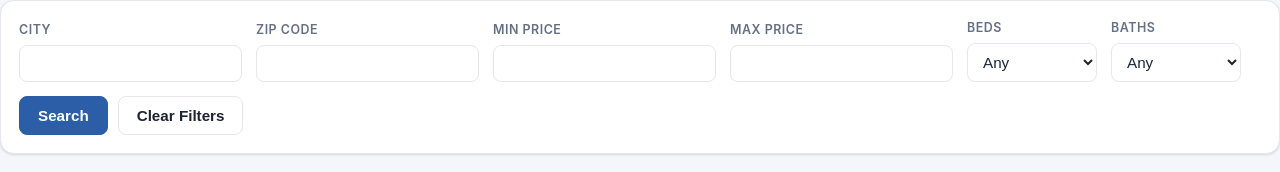
it: Clear Filters resets the form and calls onClear
Type "Irvine" into the field labelled "City". click: (130, 63)
box: [19,45,242,82]
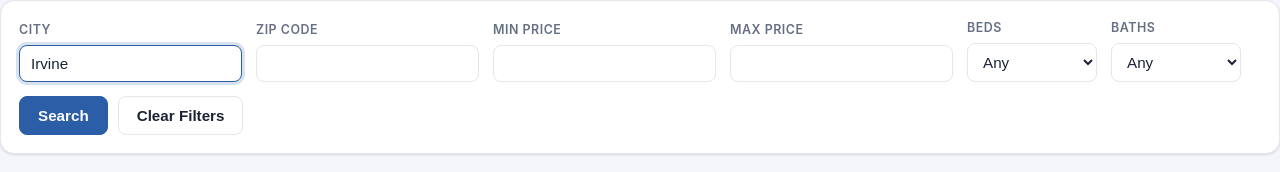
Click the button "Clear Filters". click: (181, 115)
box: [118,96,244,135]
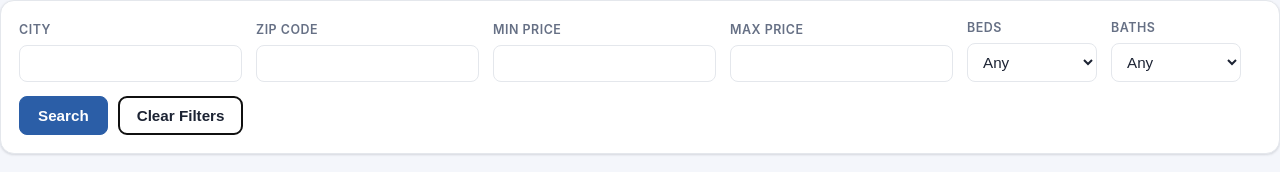
Now the field labelled "City" is empty, box [19,45,242,82]
